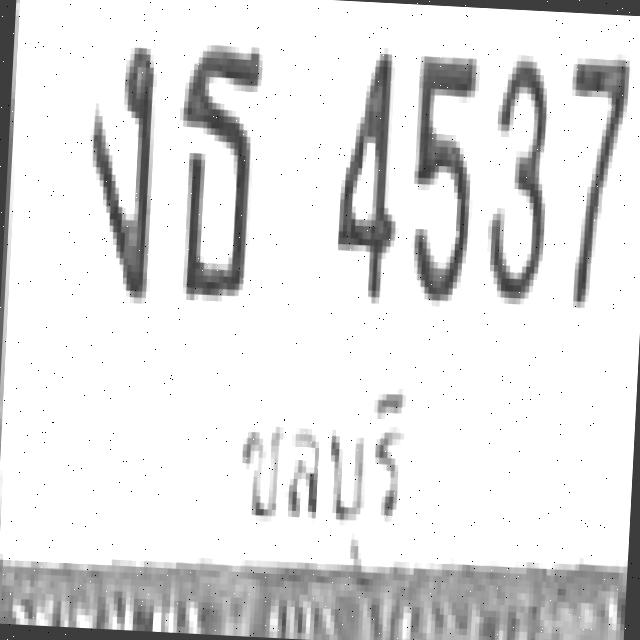16NgorNgu: (78, 32, 160, 298)
3: (480, 47, 550, 299)
33ThorThong: (168, 38, 262, 298)
4: (327, 39, 401, 298)
5: (404, 50, 476, 302)
7: (556, 44, 630, 304)
Chonburi: (225, 367, 422, 569)
